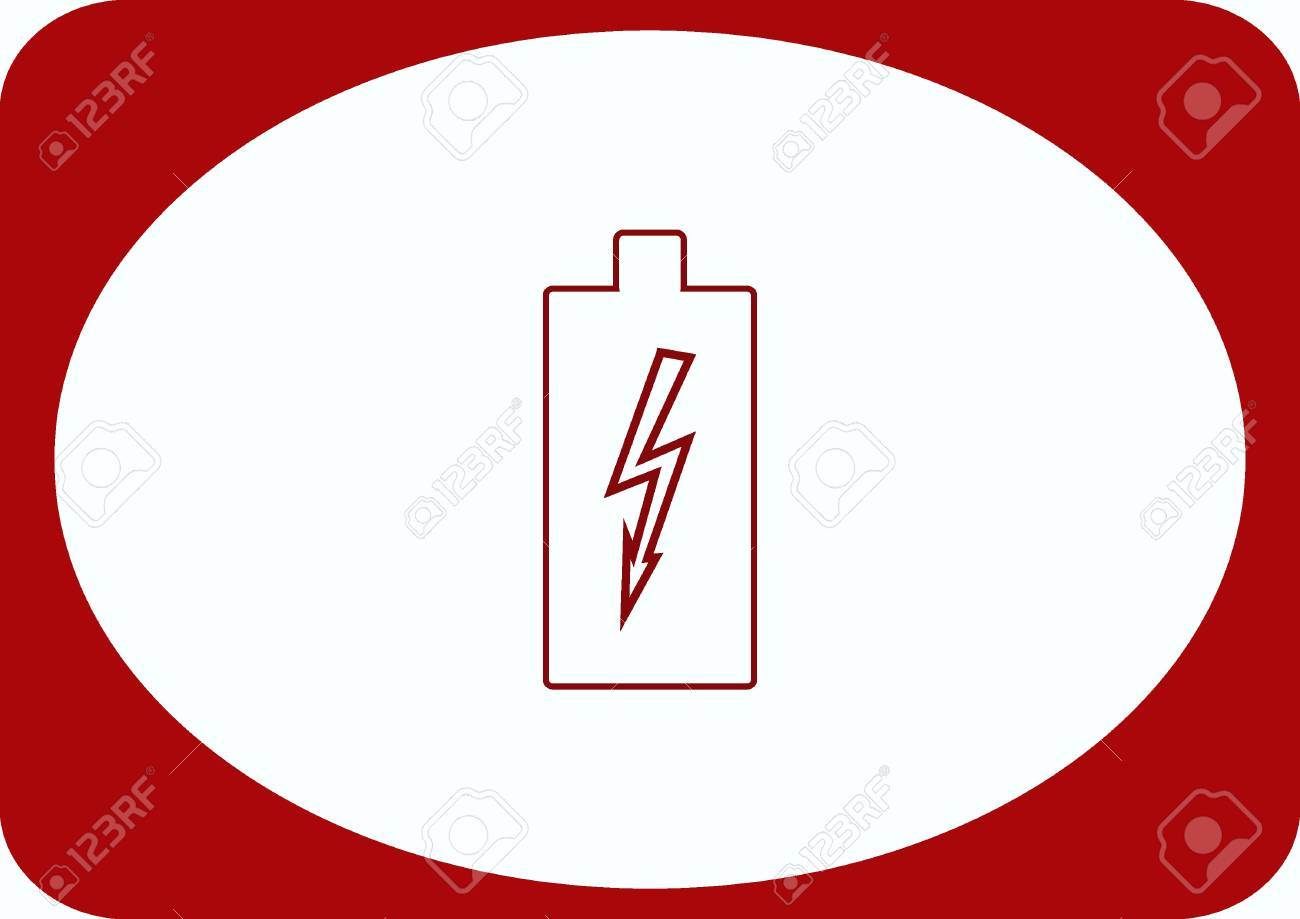charging sign: (474, 136, 824, 740)
